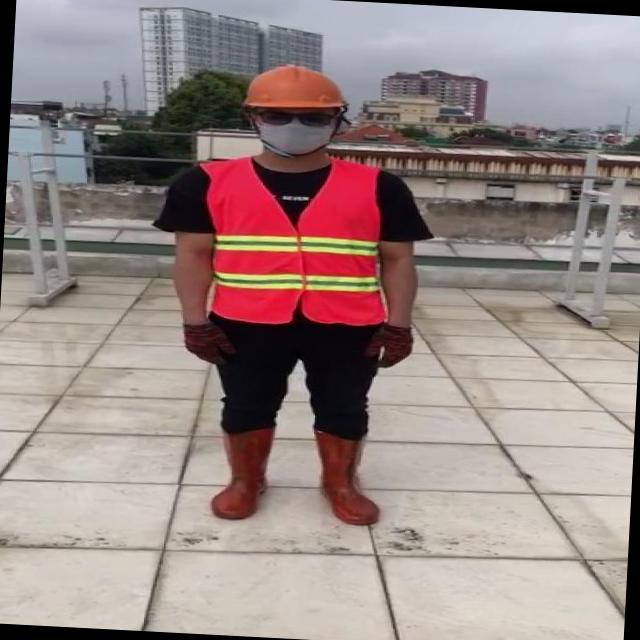boots: (204, 423, 276, 522), (313, 430, 384, 526)
gloves: (180, 315, 261, 384), (364, 322, 437, 396)
helmet: (240, 59, 348, 113)
vest: (197, 152, 391, 329)
